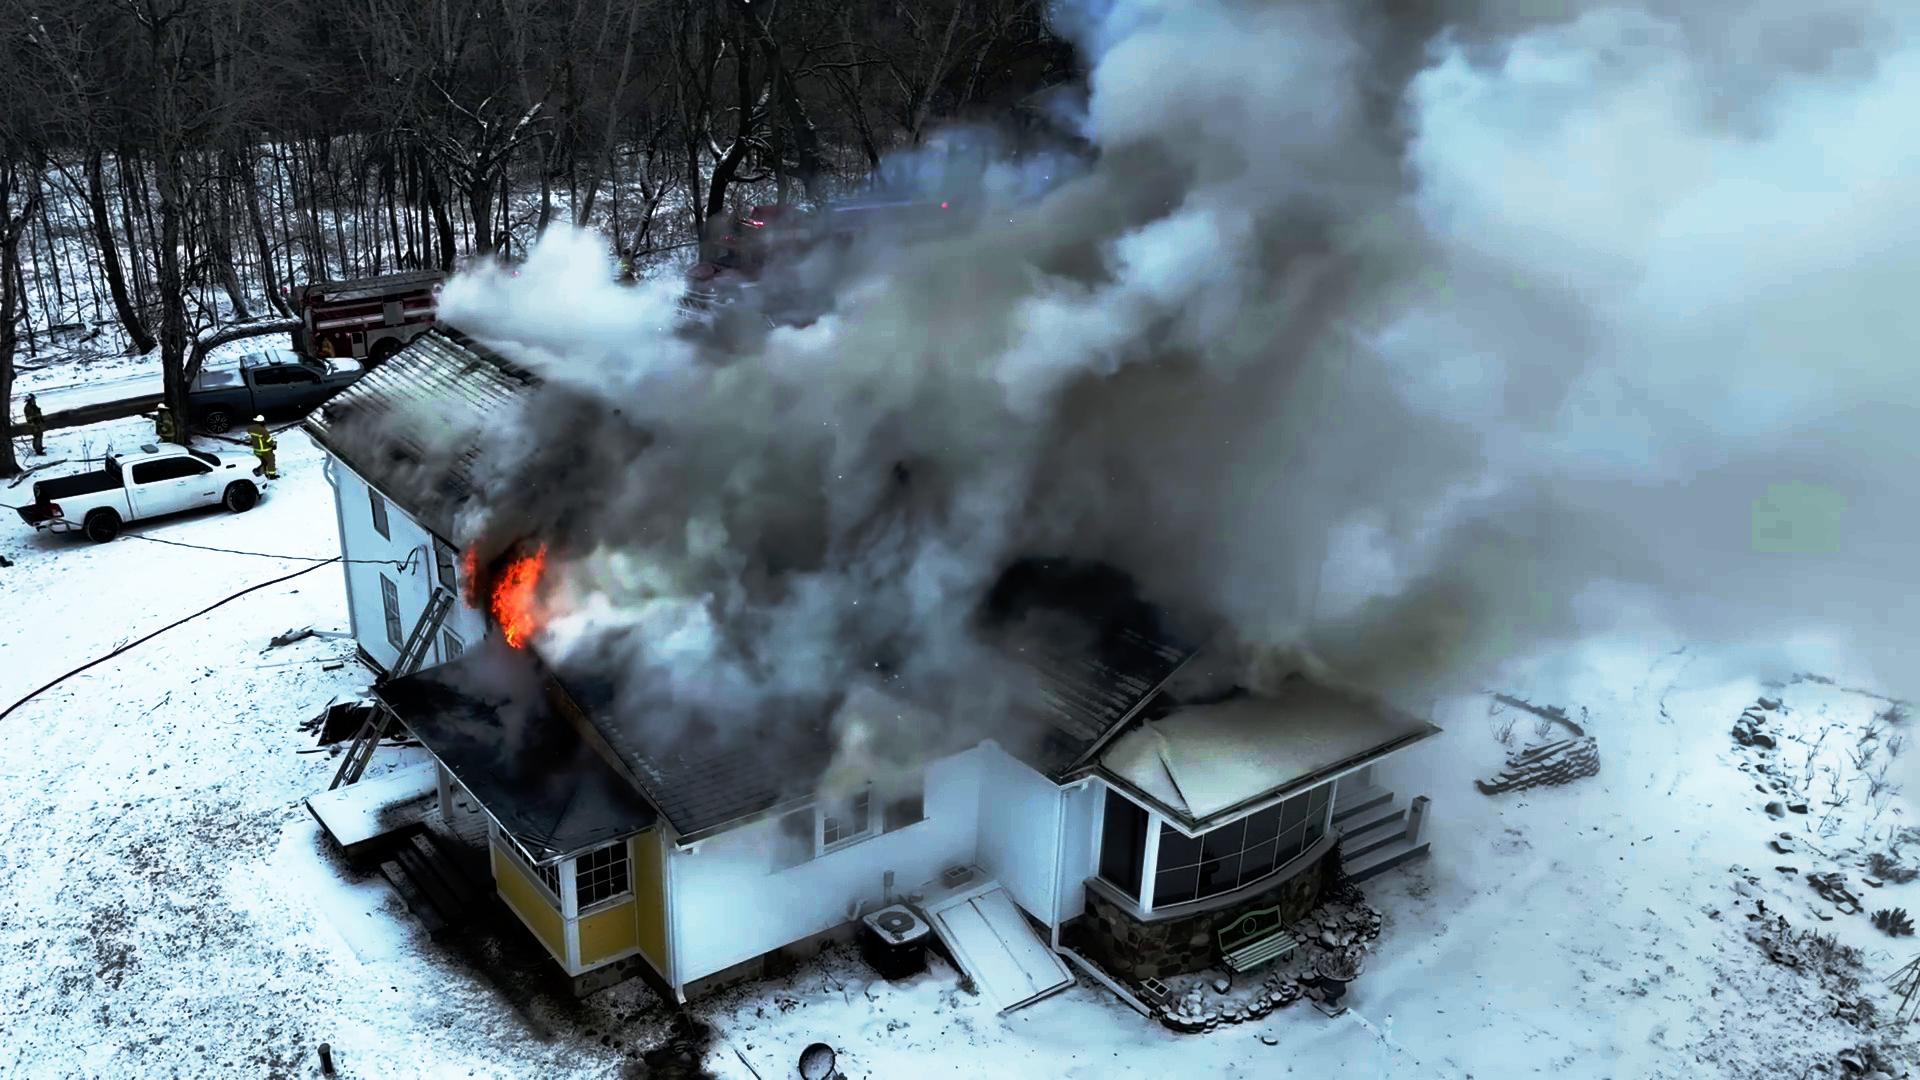fire: (446, 533, 556, 641)
smoke: (926, 228, 1842, 576)
